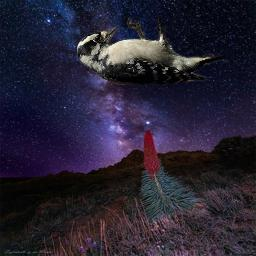Woodpecker: (77, 18, 229, 85)
